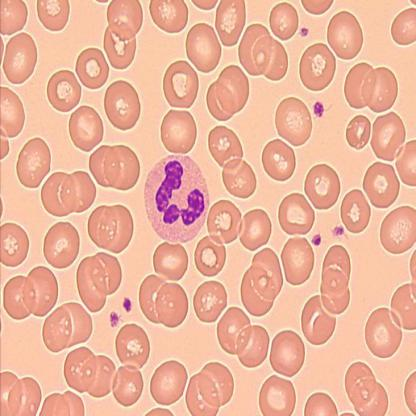Segmented neutrophil: (142, 150, 213, 247)
